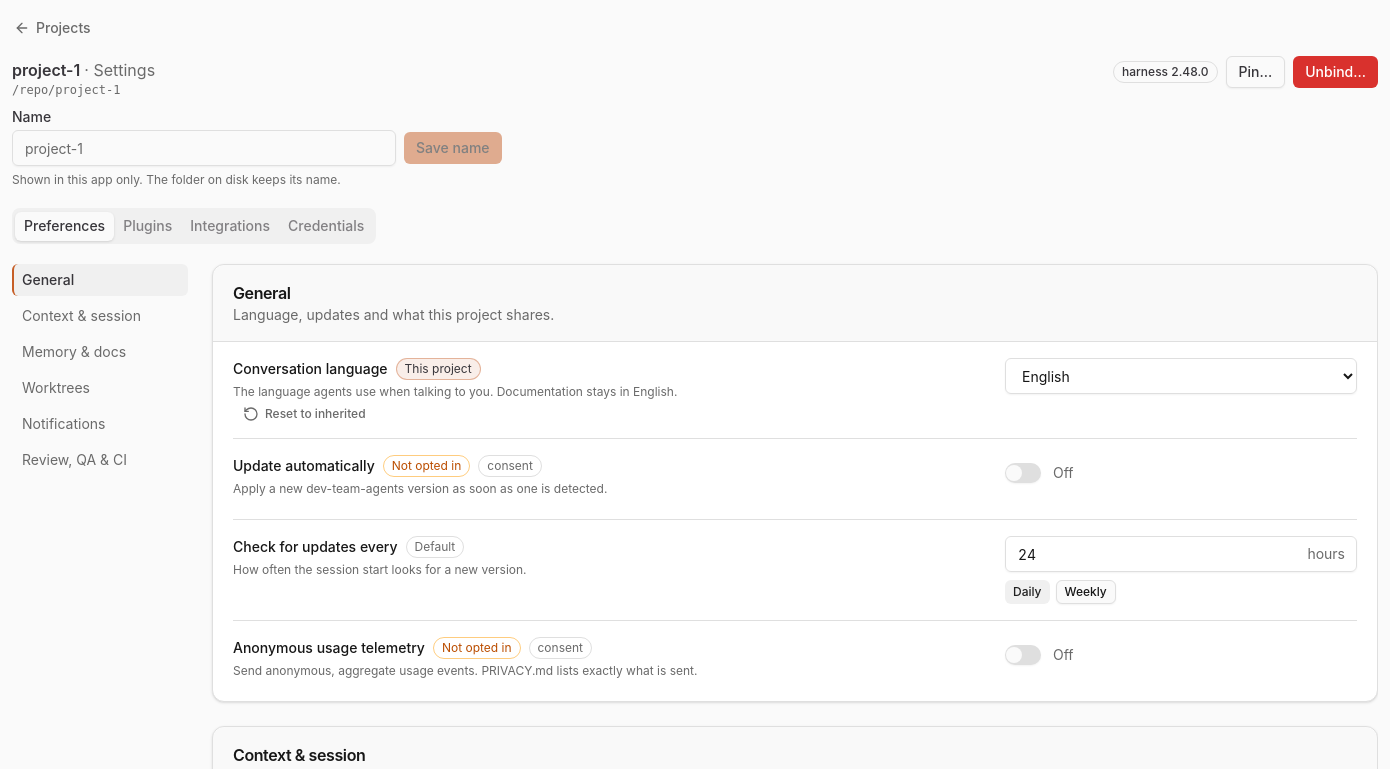
it: the project screen’s tabs › names the version and says how to update when it ships no plugins
Click the tab "Plugins".
click(148, 226)  # box [114,212,181,240]
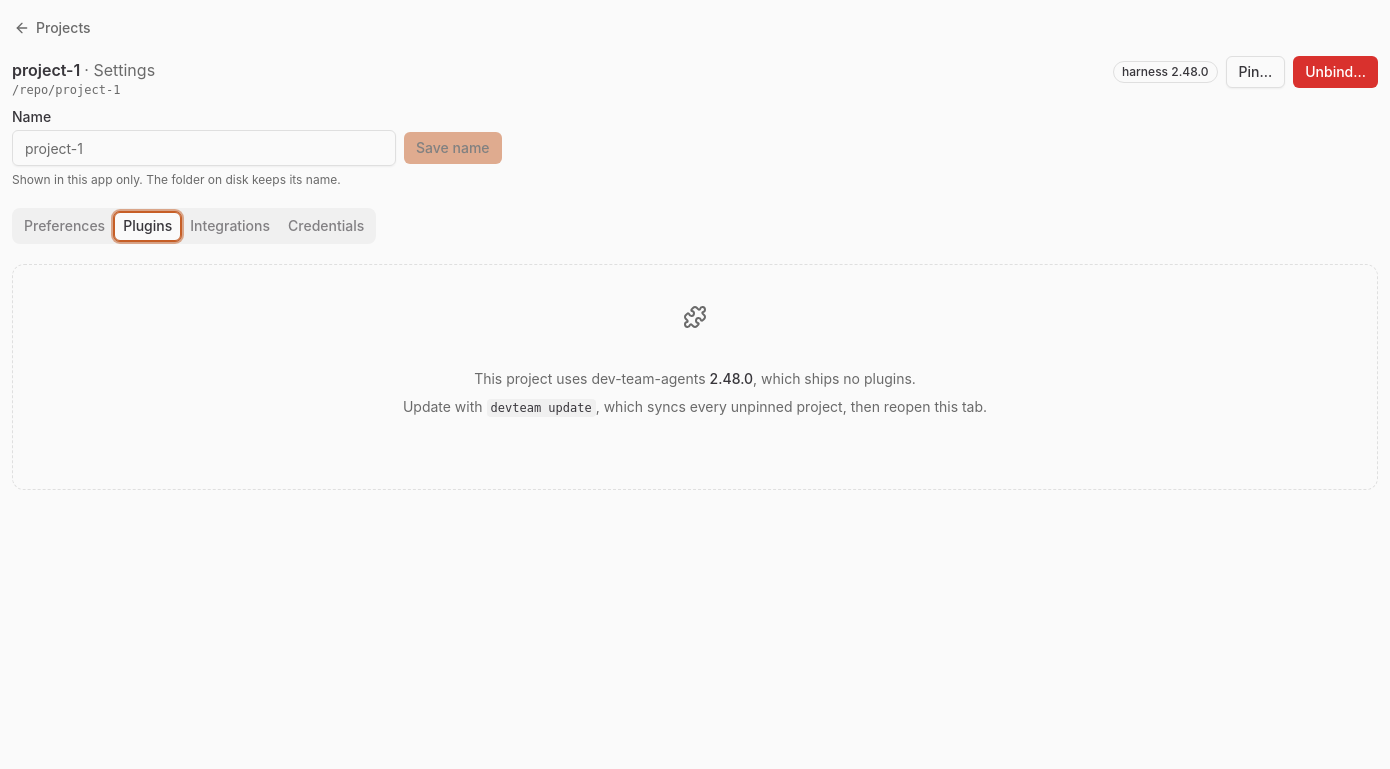
Expected: the text "ships no plugins" shows "dev-team-agents 2.48.0, which ships no plugins", [403,370,987,417]
Expected: the text "devteam update" is shown, [486,399,596,417]
